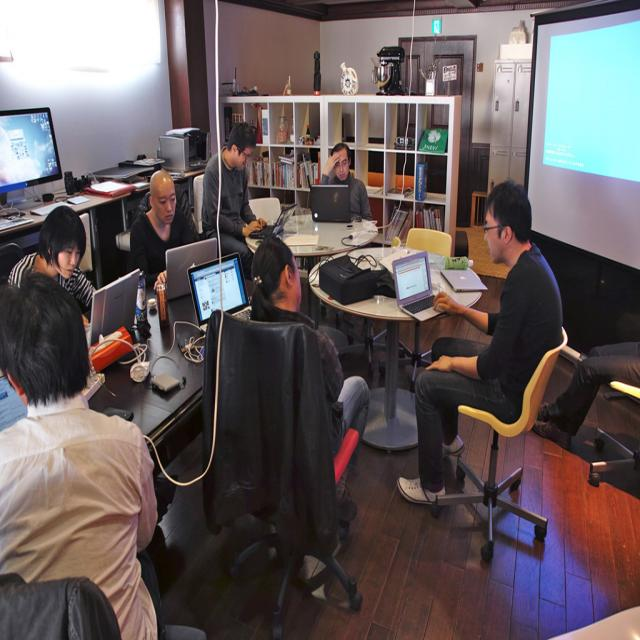chair: (194, 310, 365, 634), (410, 325, 568, 567), (1, 574, 121, 637), (587, 380, 640, 497), (406, 227, 453, 259), (0, 242, 23, 283), (192, 172, 205, 232)
desk: (303, 239, 528, 475)
laptop: (186, 253, 252, 326), (86, 268, 140, 348), (392, 250, 449, 320), (165, 236, 219, 301), (248, 198, 284, 243), (309, 184, 350, 222)
person: (0, 273, 169, 634), (398, 179, 564, 501), (250, 236, 370, 451), (532, 335, 639, 441), (8, 204, 96, 331), (202, 120, 262, 280), (129, 169, 198, 281), (320, 140, 376, 224)
tv: (524, 1, 640, 273), (0, 106, 64, 202), (188, 252, 250, 330)
